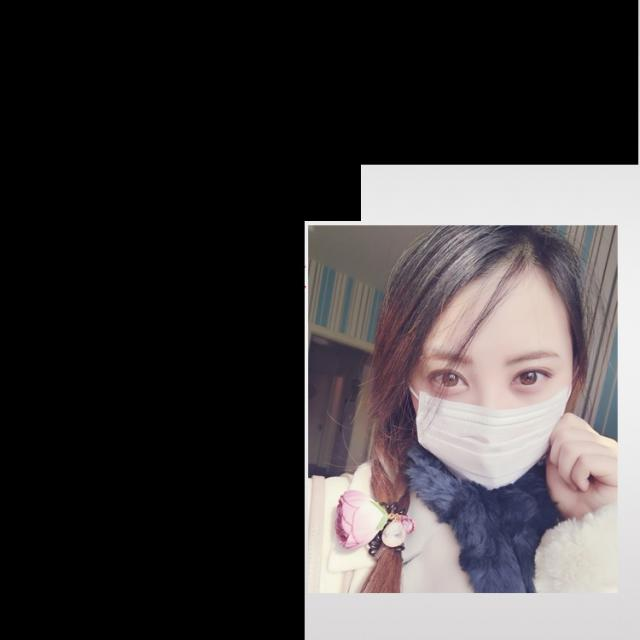mask: (408, 275, 572, 496)
